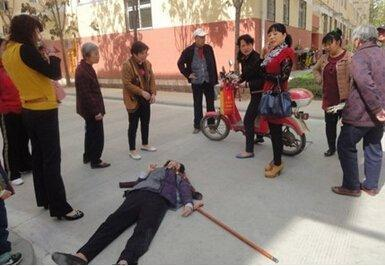Fall-Detected: (41, 150, 212, 259)
